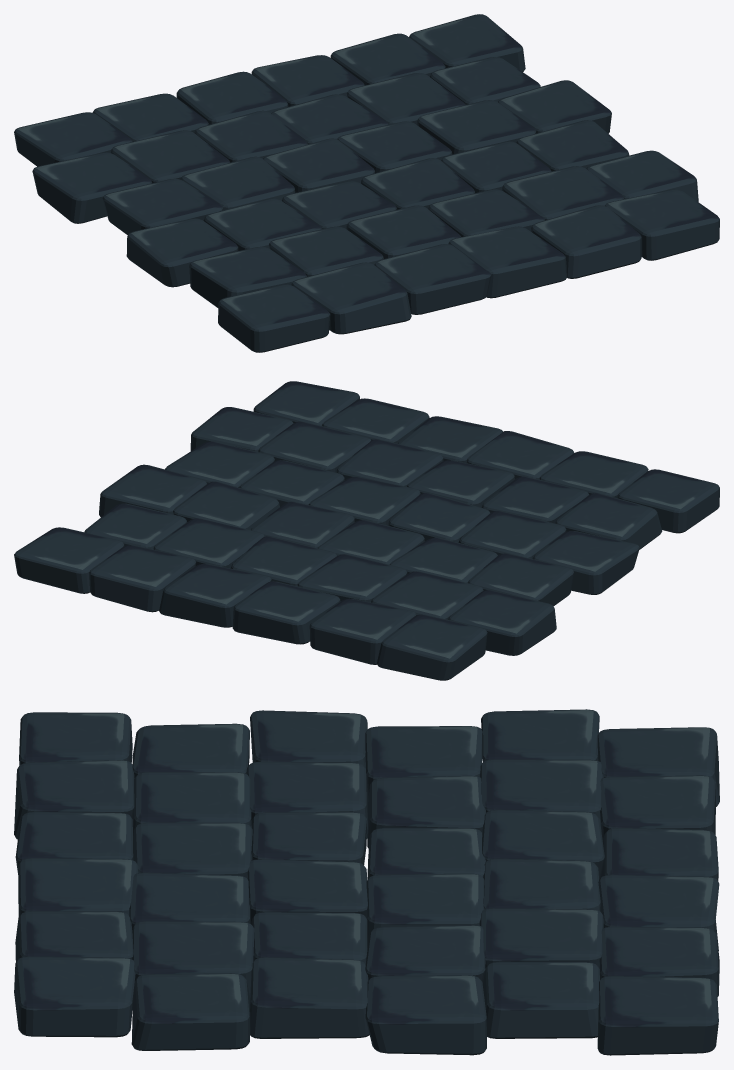
Rendered from Pave Prison.glb.
3 views of the same model, one above another, from view 1: azimuth 30°, elevation 25°; view 2: azimuth 150°, elevation 25°; view 3: azimuth 270°, elevation 25° (orthographic). The views are drawn at different scales.
Visible parts, largest first — view 1: pavé; view 2: pavé; view 3: pavé.
Part boxes in pixels (x1=…): pavé: x1=14, y1=14, x2=719, y2=352; pavé: x1=14, y1=381, x2=719, y2=680; pavé: x1=14, y1=709, x2=719, y2=1055.
Size of the model in its own units: 3.84 by 0.2168 by 3.63.
1 material, 1 textured.
